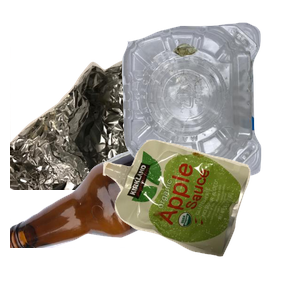glass: (10, 120, 247, 300)
metal: (10, 47, 216, 227)
plastic: (119, 20, 300, 190)
trash: (100, 137, 300, 300)
